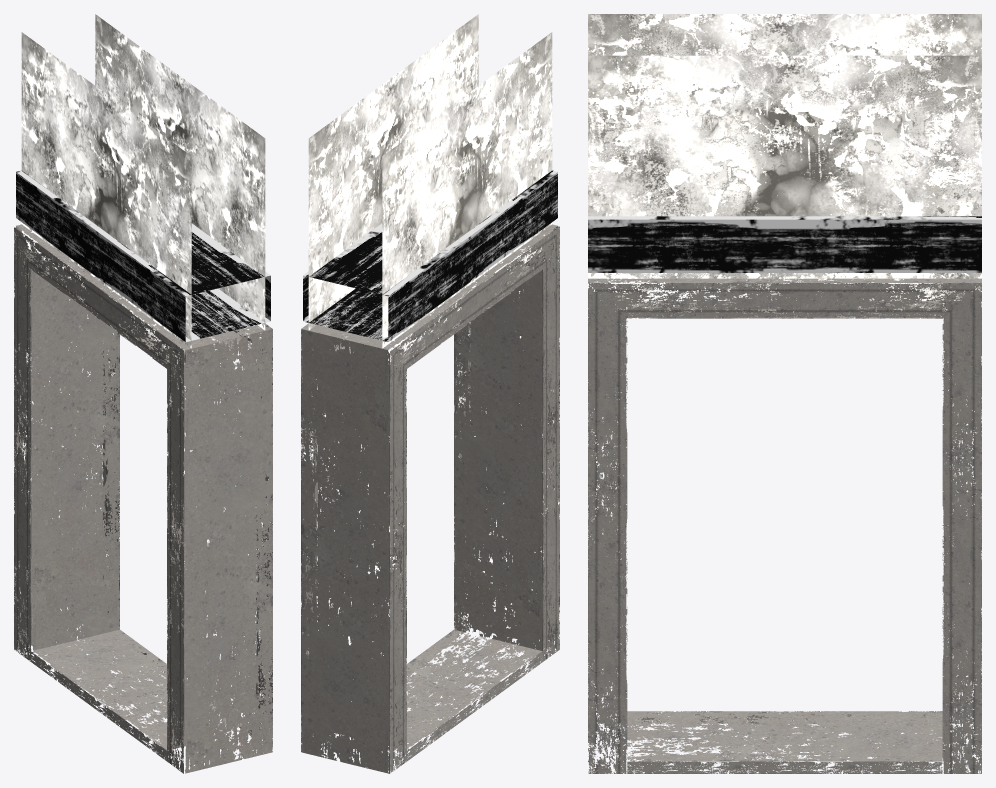
File: SM_wall_A_doorway_2x2_01_03.fbx
3 renders of one model, left to right at view 1: azimuth 30°, elevation 25°; view 2: azimuth 150°, elevation 25°; view 3: azimuth 270°, elevation 25°, orthographic. The views are drawn at different scales.
Visible parts, largest first — view 1: SM_wall_A_doorway_2x2_01_03_LOD0; view 2: SM_wall_A_doorway_2x2_01_03_LOD0; view 3: SM_wall_A_doorway_2x2_01_03_LOD0.
Part boxes in pixels (x1=…): SM_wall_A_doorway_2x2_01_03_LOD0: x1=14, y1=14, x2=272, y2=773; SM_wall_A_doorway_2x2_01_03_LOD0: x1=301, y1=14, x2=559, y2=773; SM_wall_A_doorway_2x2_01_03_LOD0: x1=588, y1=14, x2=981, y2=773.
Size of the model in its own units: 60.46 by 200 by 400.
4 materials, 4 textured.
